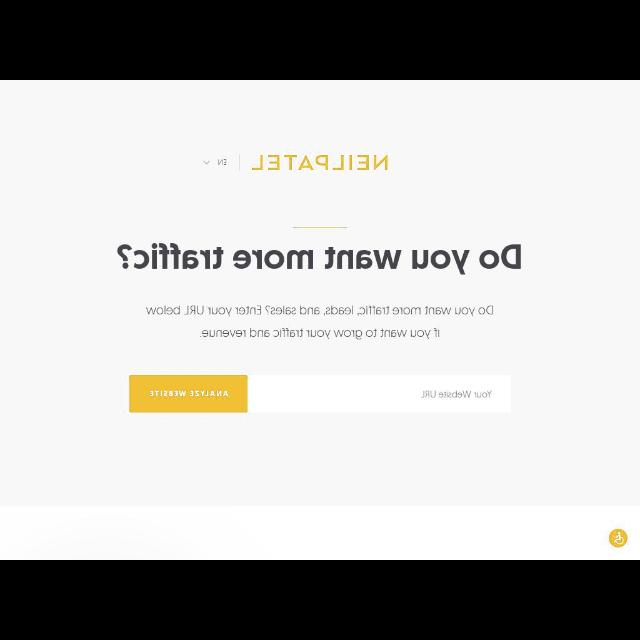icon: (202, 160, 210, 166)
image: (608, 529, 628, 547)
input: (247, 375, 511, 413)
text: (117, 243, 521, 275), (145, 306, 492, 316), (200, 328, 440, 338), (252, 154, 388, 170), (421, 390, 492, 398), (150, 389, 228, 396), (218, 159, 226, 165)
textbutton: (129, 376, 247, 412)
